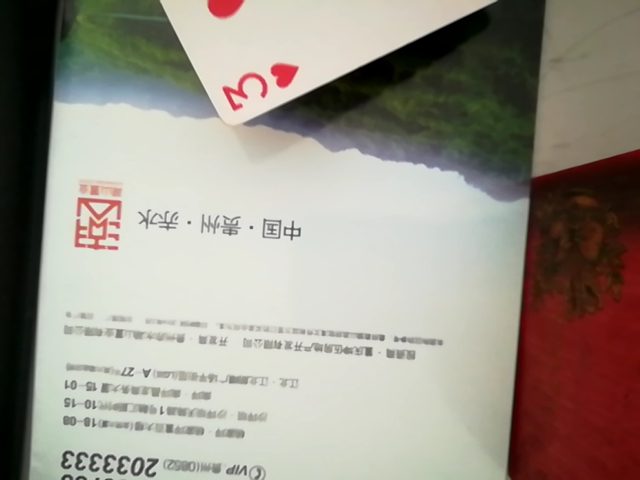hx 3: (106, 4, 560, 131)
